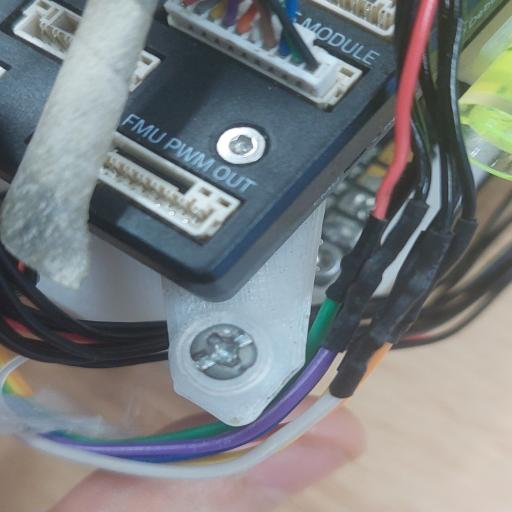Hex-Allen: (213, 123, 271, 166)
Phillips: (190, 324, 259, 379)
